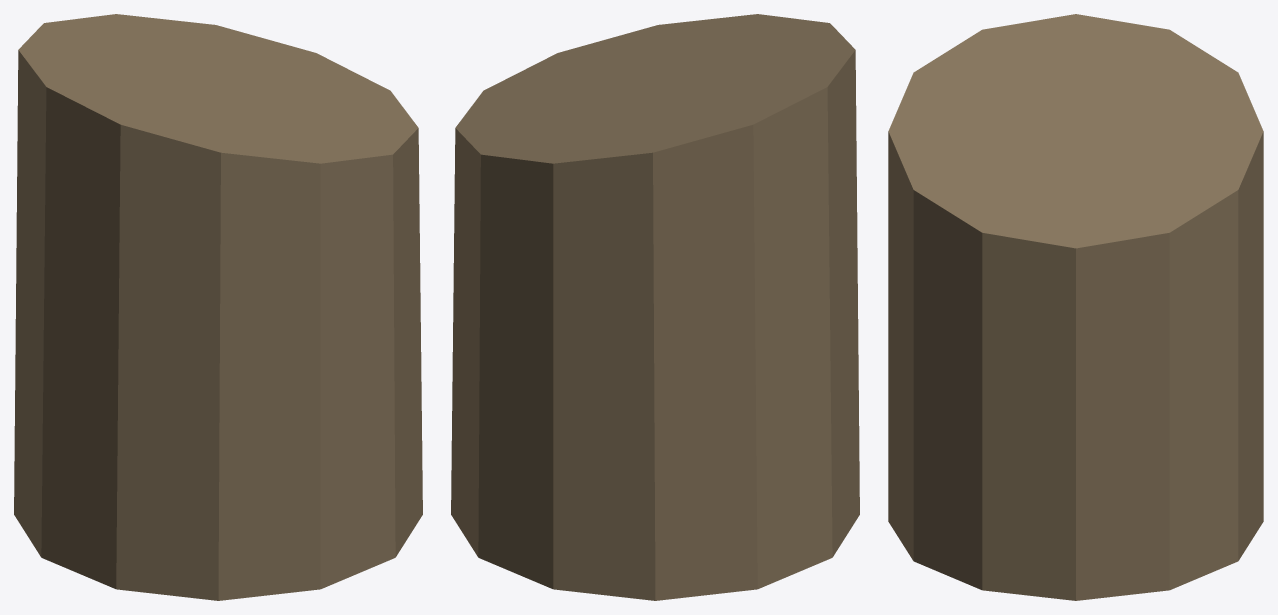
Rendered from Tronco1_FBX.fbx.
3 views of the same model, side by side, from view 1: azimuth 30°, elevation 25°; view 2: azimuth 150°, elevation 25°; view 3: azimuth 270°, elevation 25° (orthographic). The views are drawn at different scales.
Visible parts, largest first — view 1: pCylinder3; view 2: pCylinder3; view 3: pCylinder3.
Boxes of the visible parts, x1,y1,x2,y2 form: pCylinder3: [14, 14, 422, 600]; pCylinder3: [451, 14, 859, 600]; pCylinder3: [888, 14, 1263, 600].
Size of the model in its own units: 1.58 by 2 by 1.58.
